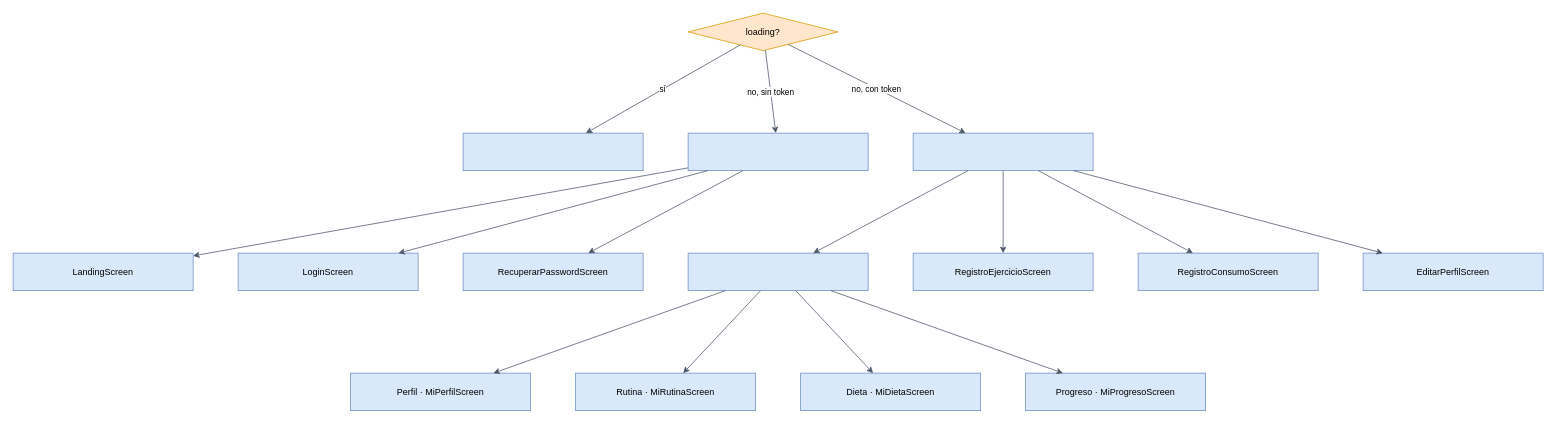
Some shapes in this 1556 by 424 pixel diagram are drawn without their labels. Each missing label, with the centre of its shape:
"LoadingScreen" goes at pixel 552 151.
"MainTabs · bottom tab" goes at pixel 777 271.
"RootStack" goes at pixel 1002 151.
"Stack público" goes at pixel 777 151.
